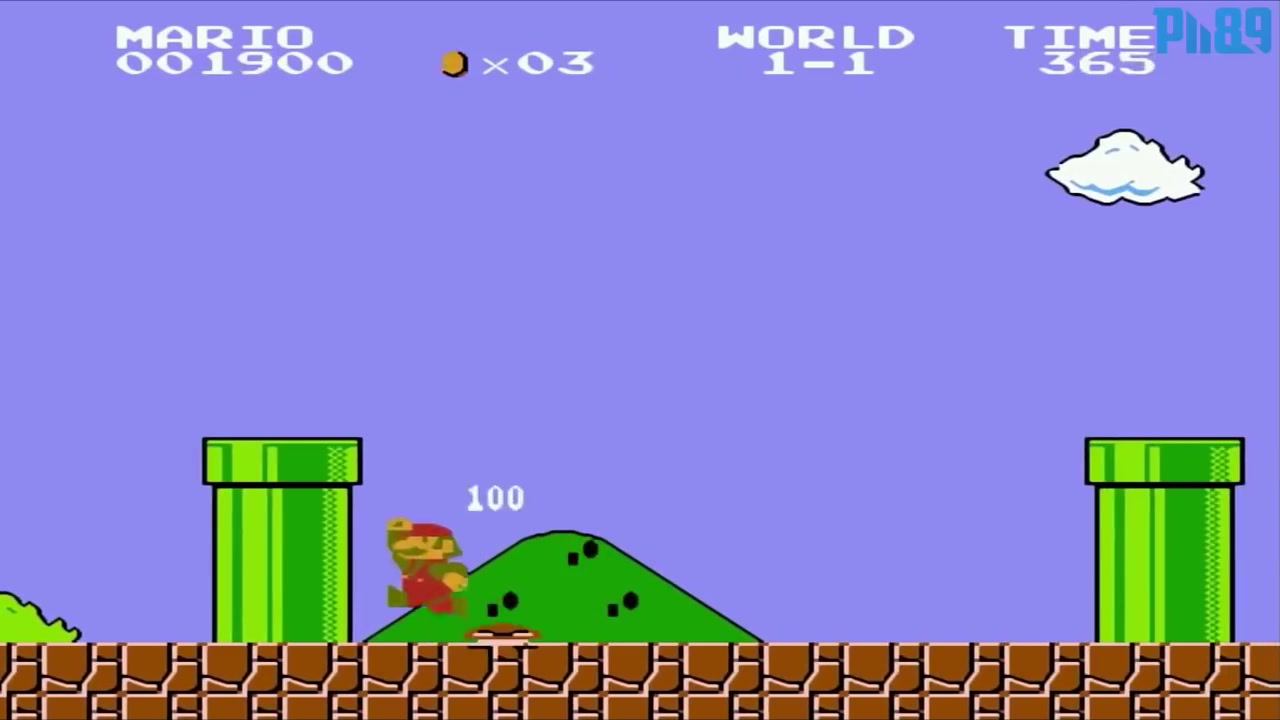mario: (378, 515, 474, 624)
